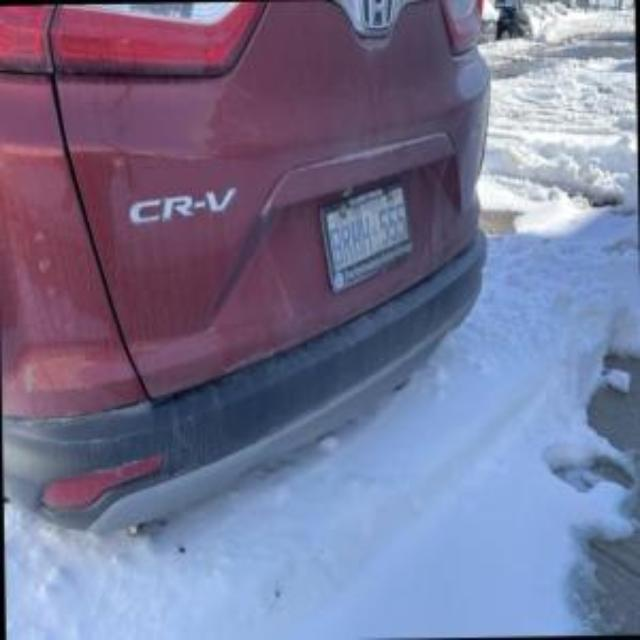License Plate: (319, 177, 415, 294)
